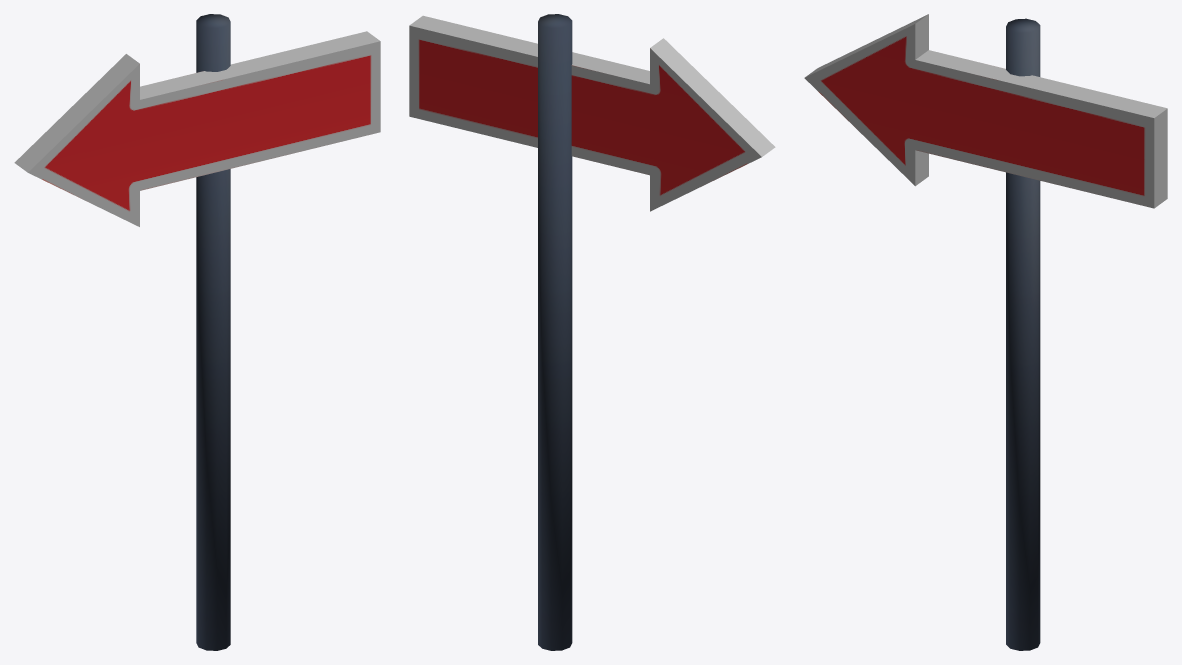
File: sign_03.glb
3 renders of one model, left to right at view 1: azimuth 30°, elevation 25°; view 2: azimuth 150°, elevation 25°; view 3: azimuth 330°, elevation 25°, orthographic.
Visible parts, largest first — view 1: Pole.003; view 2: Pole.003; view 3: Pole.003.
Boxes of the visible parts, left/top/right/bottom form: Pole.003: left=14, top=14, right=380, bottom=650; Pole.003: left=409, top=14, right=775, bottom=650; Pole.003: left=804, top=14, right=1167, bottom=650.
Size of the model in its own units: 2.25 by 3.79 by 0.2837.
Materials: 1 (1 with a texture image).
